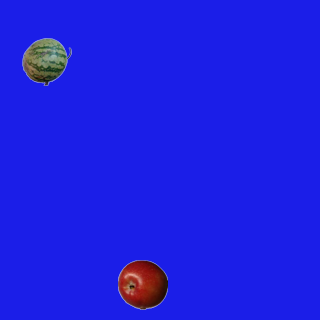Apple Braeburn: (117, 259, 167, 309)
Watermelon: (21, 36, 71, 86)
